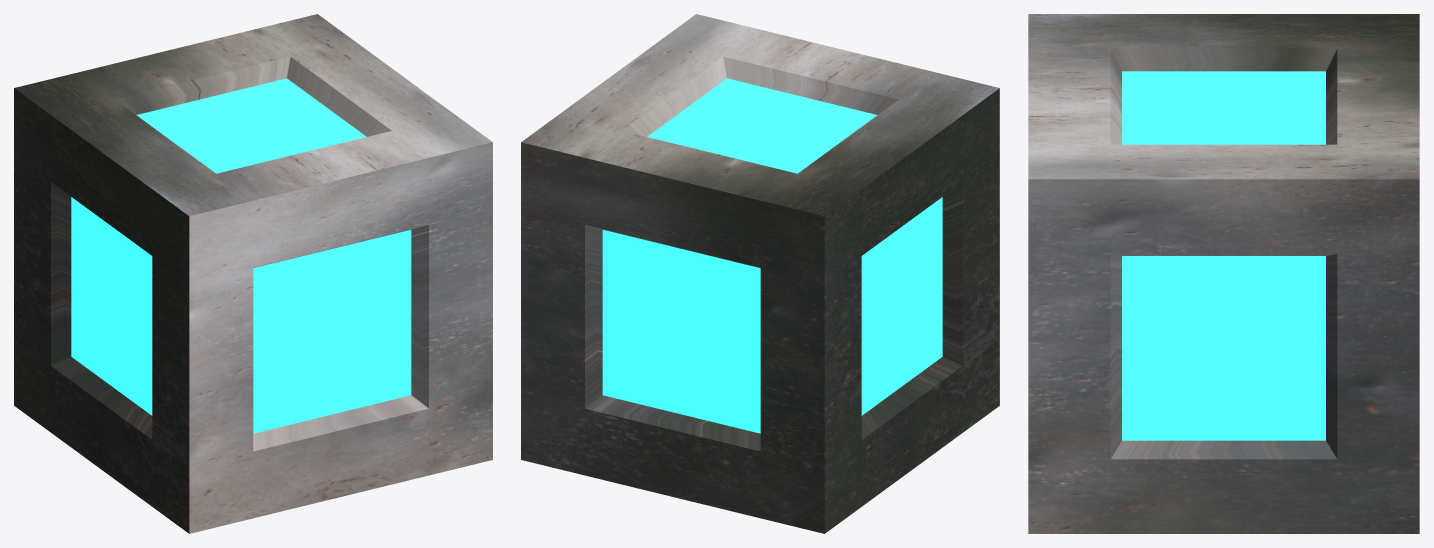
Rendered from SnowmanCore.fbx.
3 renders of one model, left to right at view 1: azimuth 30°, elevation 25°; view 2: azimuth 150°, elevation 25°; view 3: azimuth 270°, elevation 25°, orthographic. The views are drawn at different scales.
Parts seen in each view (by area): view 1: SnowmanCore; view 2: SnowmanCore; view 3: SnowmanCore.
Boxes of the visible parts, x1,y1,x2,y2 form: SnowmanCore: [14, 14, 492, 533]; SnowmanCore: [521, 14, 999, 533]; SnowmanCore: [1028, 14, 1419, 533].
Size of the model in its own units: 0.4 by 0.4 by 0.4.
